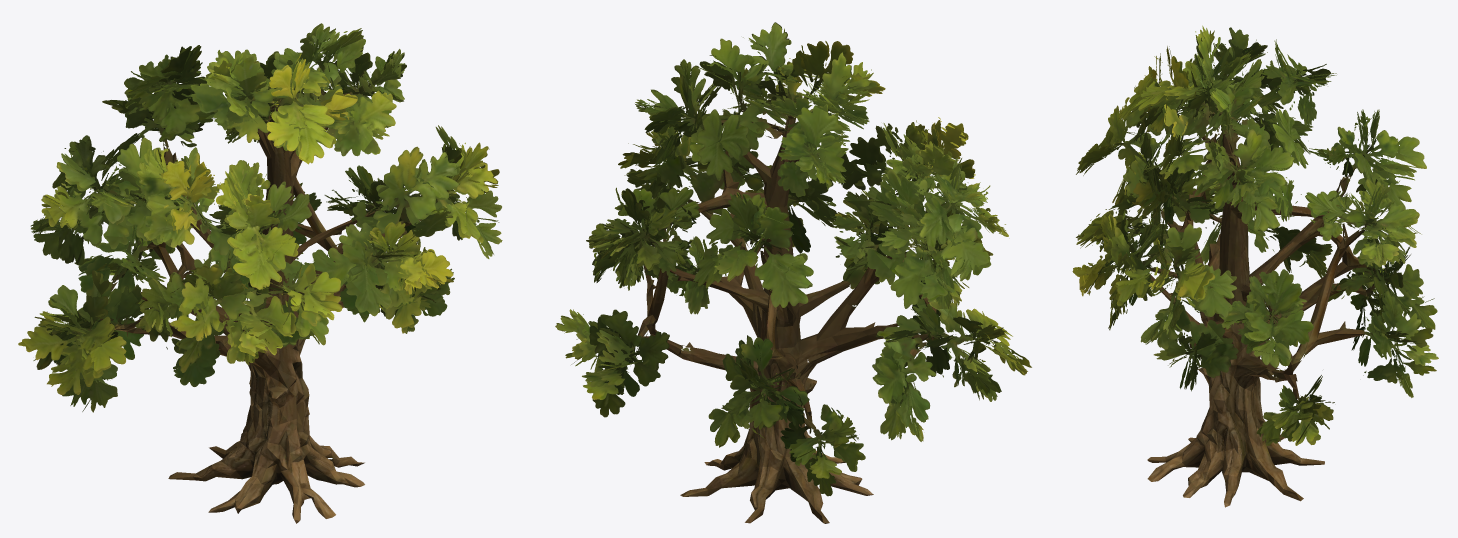
Rendered from agac.glb.
3 renders of one model, left to right at view 1: azimuth 30°, elevation 25°; view 2: azimuth 150°, elevation 25°; view 3: azimuth 270°, elevation 25°, orthographic. The views are drawn at different scales.
Parts seen in each view (by area): view 1: agac; view 2: agac; view 3: agac.
Boxes of the visible parts, bbox=[...] form: agac: bbox=[18, 23, 502, 523]; agac: bbox=[555, 22, 1031, 523]; agac: bbox=[1072, 25, 1438, 507].
Bounding box in the file's own units: 5.09 × 5.1 × 3.97.
2 materials, 2 textured.
